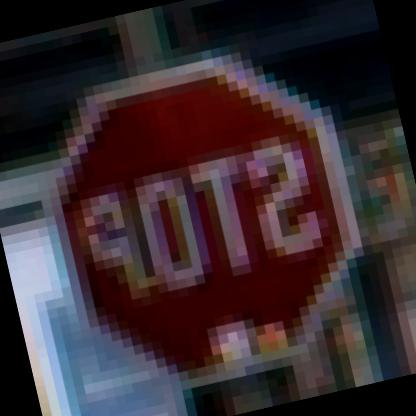stop: (22, 25, 387, 407)
